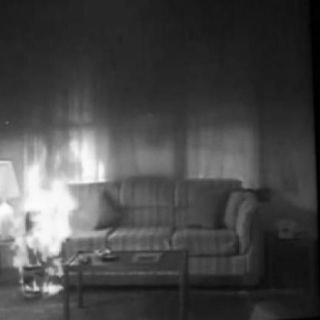Fire: (6, 139, 82, 300)
Smoke: (2, 1, 318, 151)
other: (2, 168, 18, 225)
